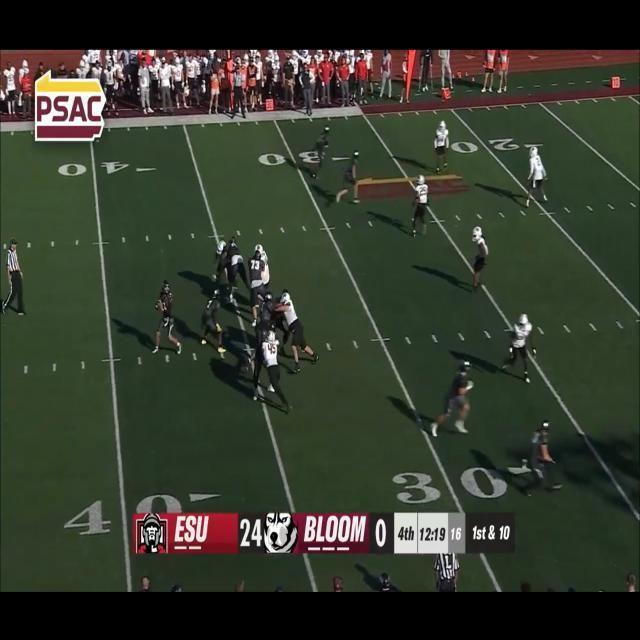football: (153, 298, 163, 312)
